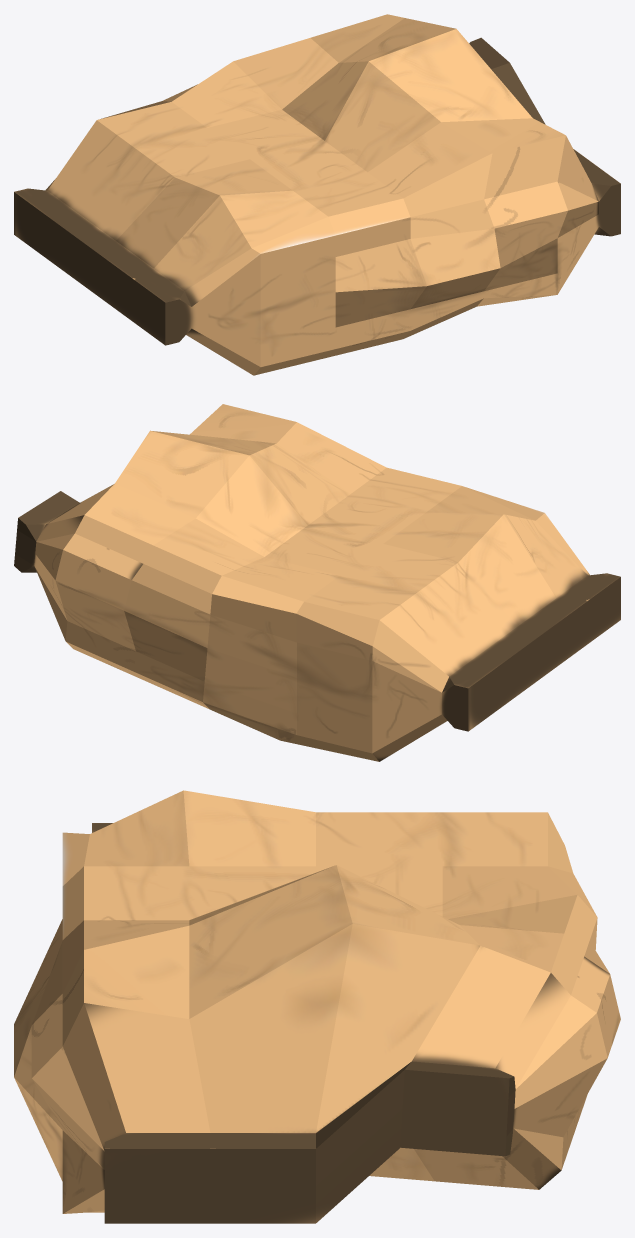
The model's file is SacTerre.fbx.
3 views of the same model, one above another, from view 1: azimuth 30°, elevation 25°; view 2: azimuth 150°, elevation 25°; view 3: azimuth 270°, elevation 25° (orthographic). The views are drawn at different scales.
Visible parts, largest first — view 1: Cube; view 2: Cube; view 3: Cube.
Part boxes in pixels (x1,y1,x2,y2): Cube: [14, 14, 620, 375]; Cube: [14, 404, 620, 761]; Cube: [14, 790, 620, 1223].
Bounding box in the file's own units: 312 × 134 × 240.
1 material, 1 textured.
